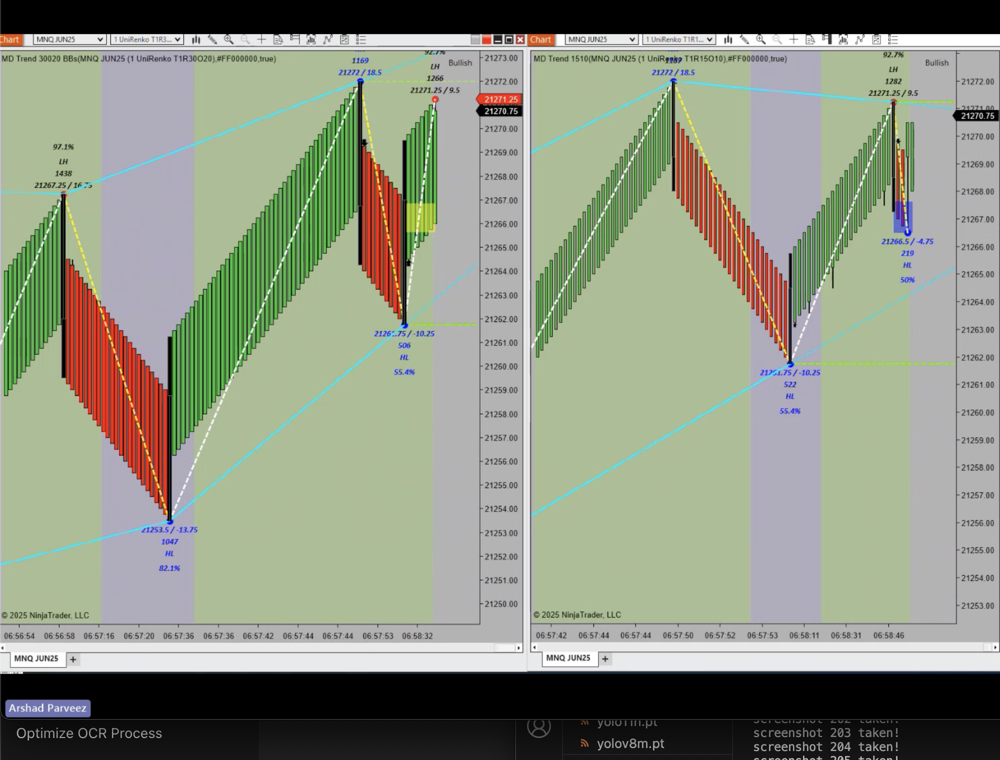HL: (156, 544, 187, 564), (900, 257, 921, 275), (781, 387, 801, 404), (395, 351, 415, 367)
LH: (423, 56, 448, 78), (883, 60, 908, 82), (54, 153, 81, 173)
